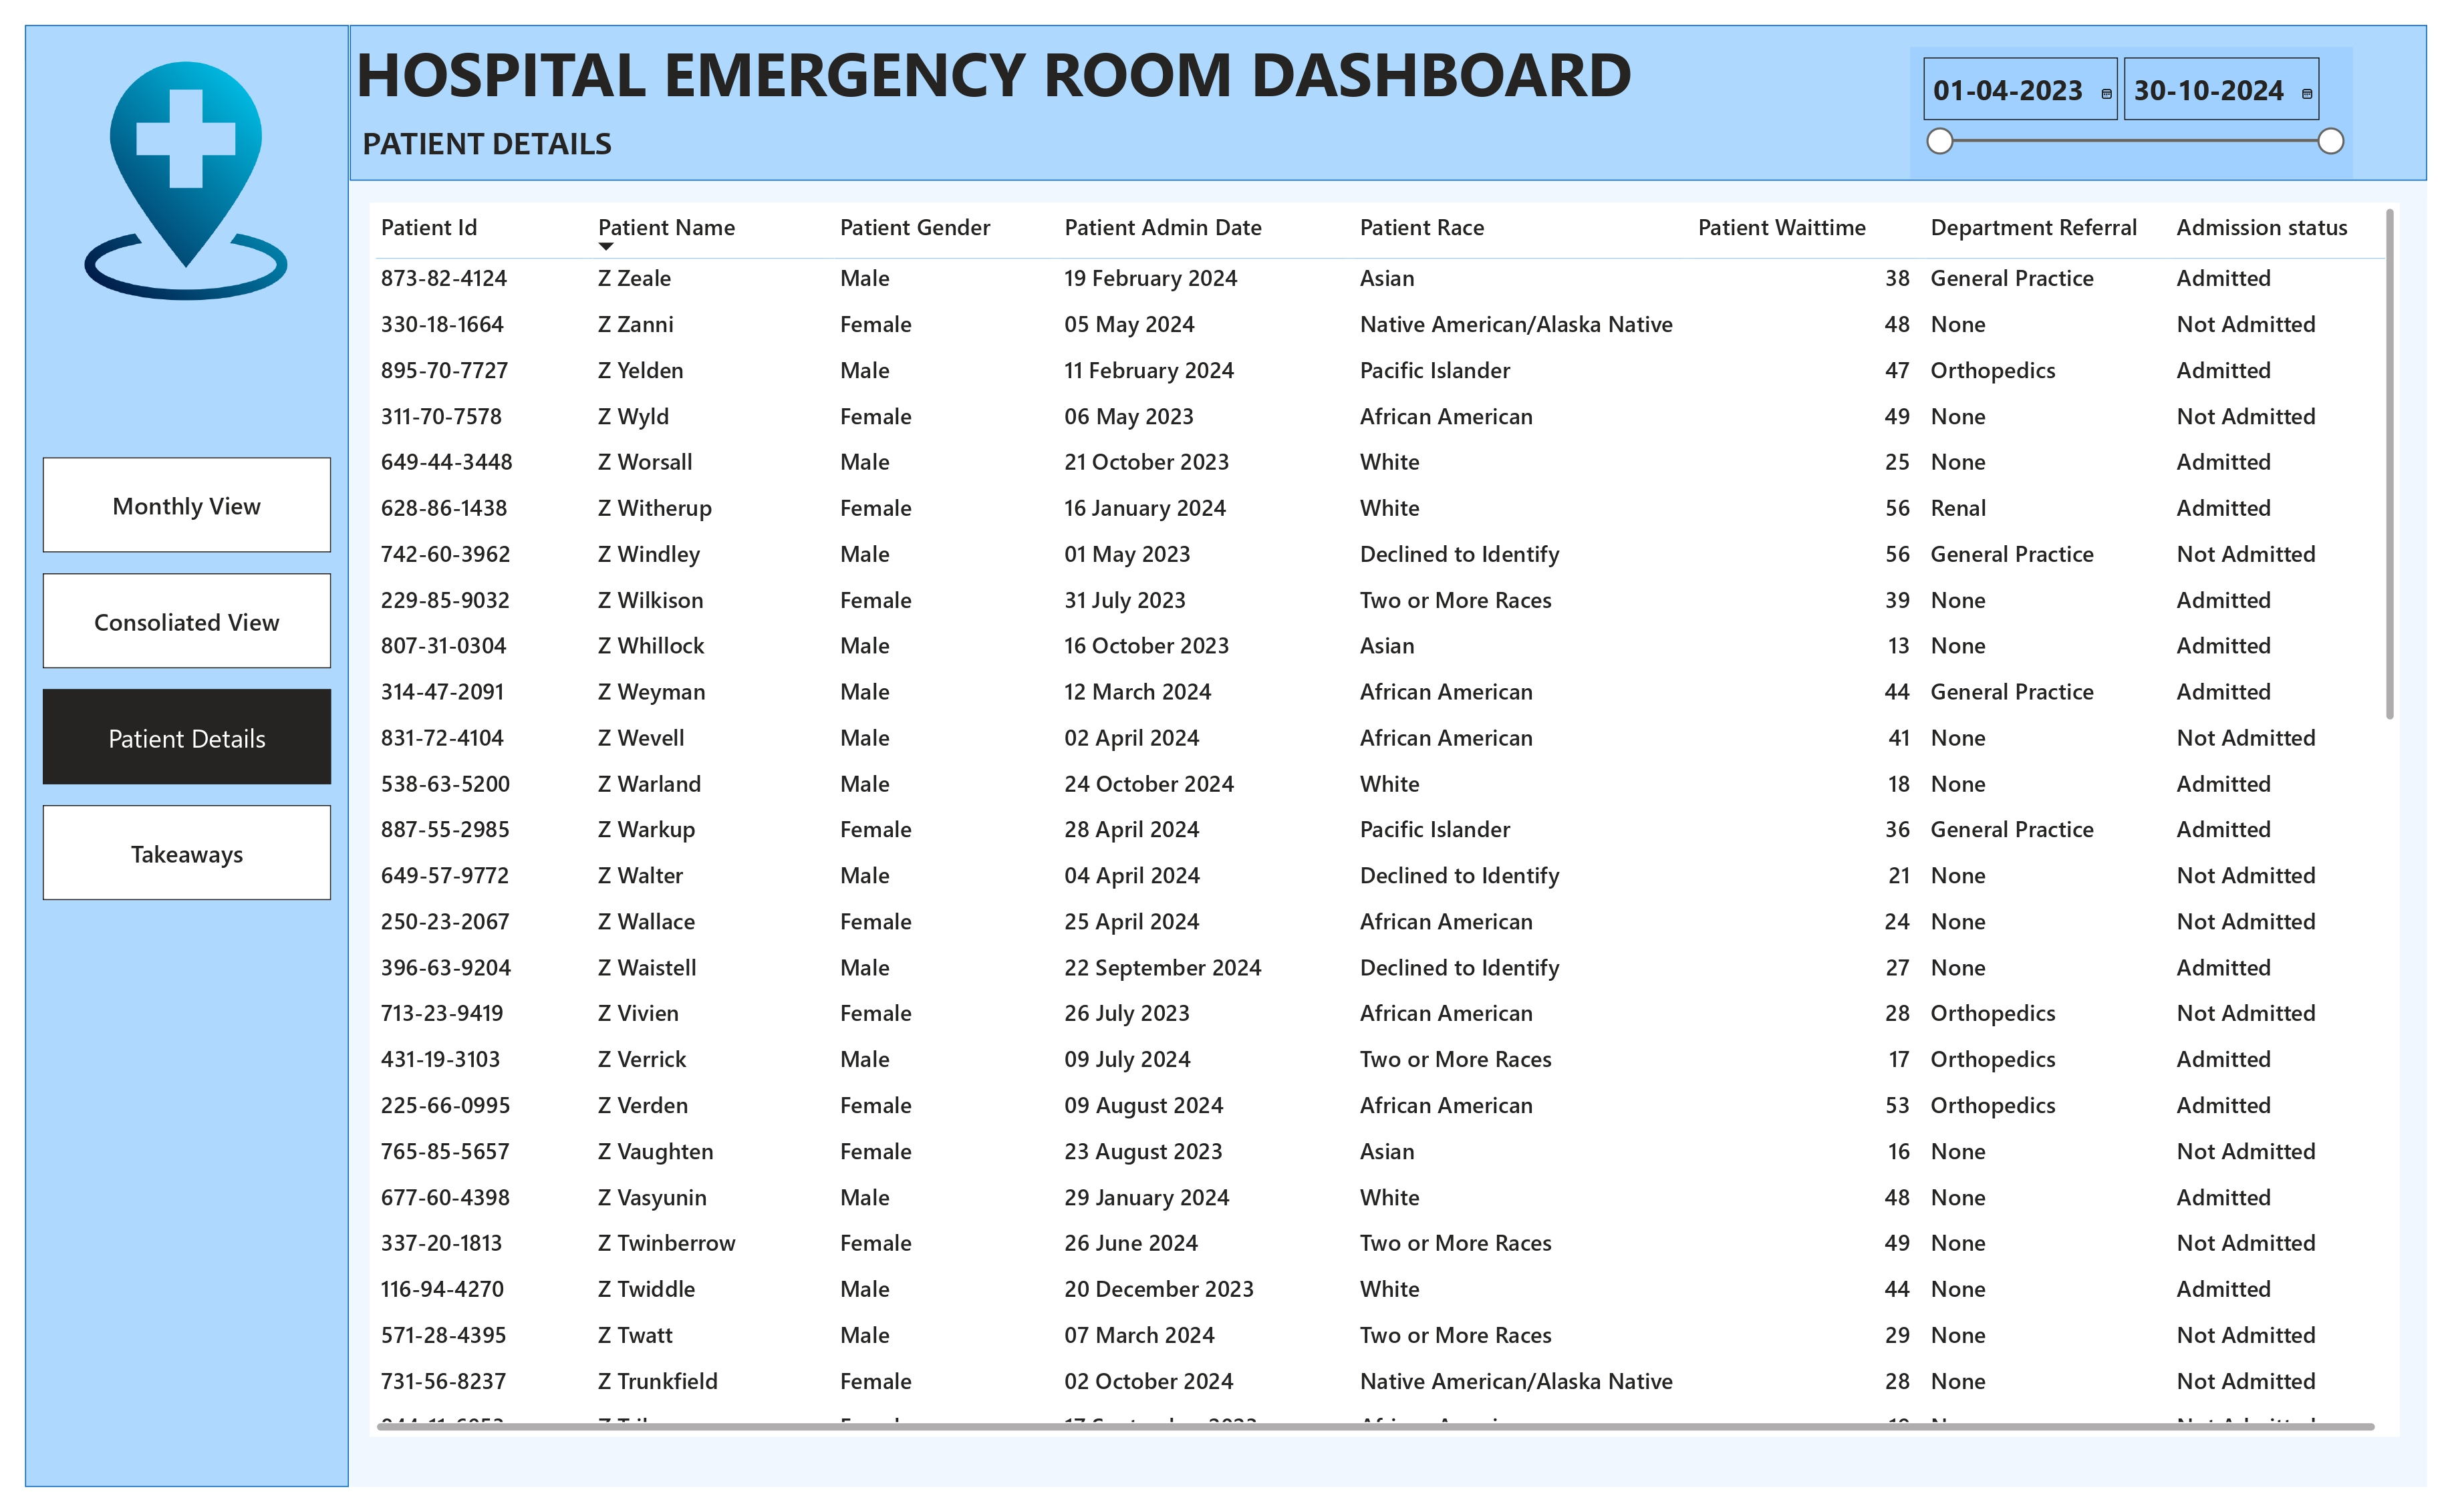

This screenshot's page, from the dashboard's own definition file:
{"tool":"powerbi","page":{"name":"Patient Details","canvas":[2300,1400],"ordinal":2},"visuals":[{"type":"shape","box":[0,0,310,1400],"z":0},{"type":"shape","box":[311.4,0,1988.6,148.6],"z":1000},{"type":"textbox","box":[311.4,0,1842.9,111.4],"z":2000},{"type":"textbox","box":[310.5,89.5,334.2,57.9],"z":3000},{"type":"slicer","title":"DATE","fields":{"Values":["Date Table.Date"]},"box":[1805.3,21.1,423.7,126.3],"z":4000},{"type":"image","box":[34.2,21.1,239.5,255.3],"z":5000},{"type":"tableEx","fields":{"Values":["Hospital ER_Data.Patient Id","Hospital ER_Data.Patient Full Name","Hospital ER_Data.Patient Gender","Hospital ER_Data.Patient Admin Date","Hospital ER_Data.Patient Race","Sum(Hospital ER_Data.Patient Waittime)","Hospital ER_Data.Department Referral","Hospital ER_Data.Admission status"]},"box":[329.6,170.4,1944.4,1181.5],"z":6000},{"type":"pageNavigator","box":[17.2,413.8,275.9,427.6],"z":7000}]}

Visuals, with their boxes on the page's 2300x1400 design canvas (x1, y1, x2, y2). These are canvas units, not pixel positions in the 2452x1512 screenshot, which may show the page scaled, cropped or inside an application window:
shape: {"x1": 0, "y1": 0, "x2": 310, "y2": 1400}
shape: {"x1": 311, "y1": 0, "x2": 2300, "y2": 149}
textbox: {"x1": 311, "y1": 0, "x2": 2154, "y2": 111}
textbox: {"x1": 310, "y1": 90, "x2": 645, "y2": 147}
"DATE" slicer: {"x1": 1805, "y1": 21, "x2": 2229, "y2": 147}
image: {"x1": 34, "y1": 21, "x2": 274, "y2": 276}
tableEx - Hospital ER_Data.Patient Id x Hospital ER_Data.Patient Full Name: {"x1": 330, "y1": 170, "x2": 2274, "y2": 1352}
pageNavigator: {"x1": 17, "y1": 414, "x2": 293, "y2": 841}
